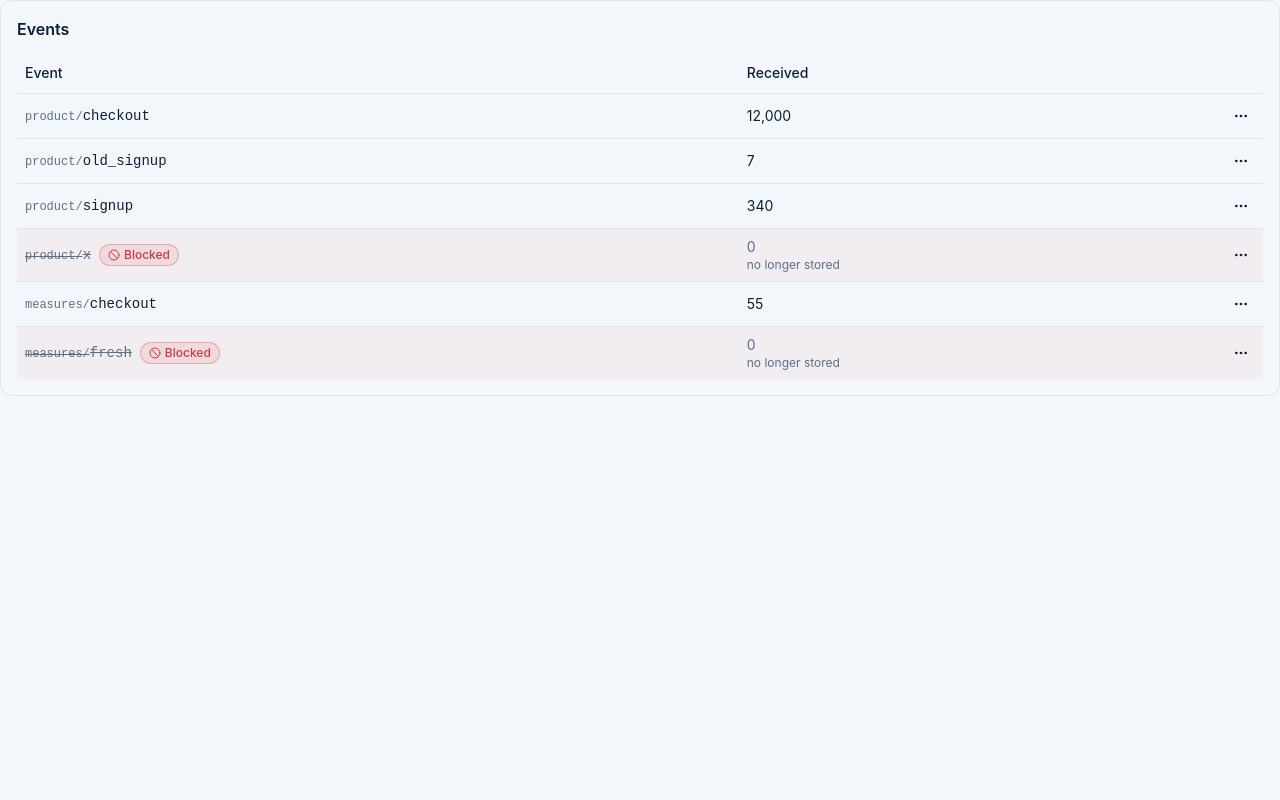
Test case: EventsSection › refuses a name the family blocks
The image size is (1280, 800).
Click the button named "Actions for signup (product)": (1241, 206) [1227,192,1255,220]
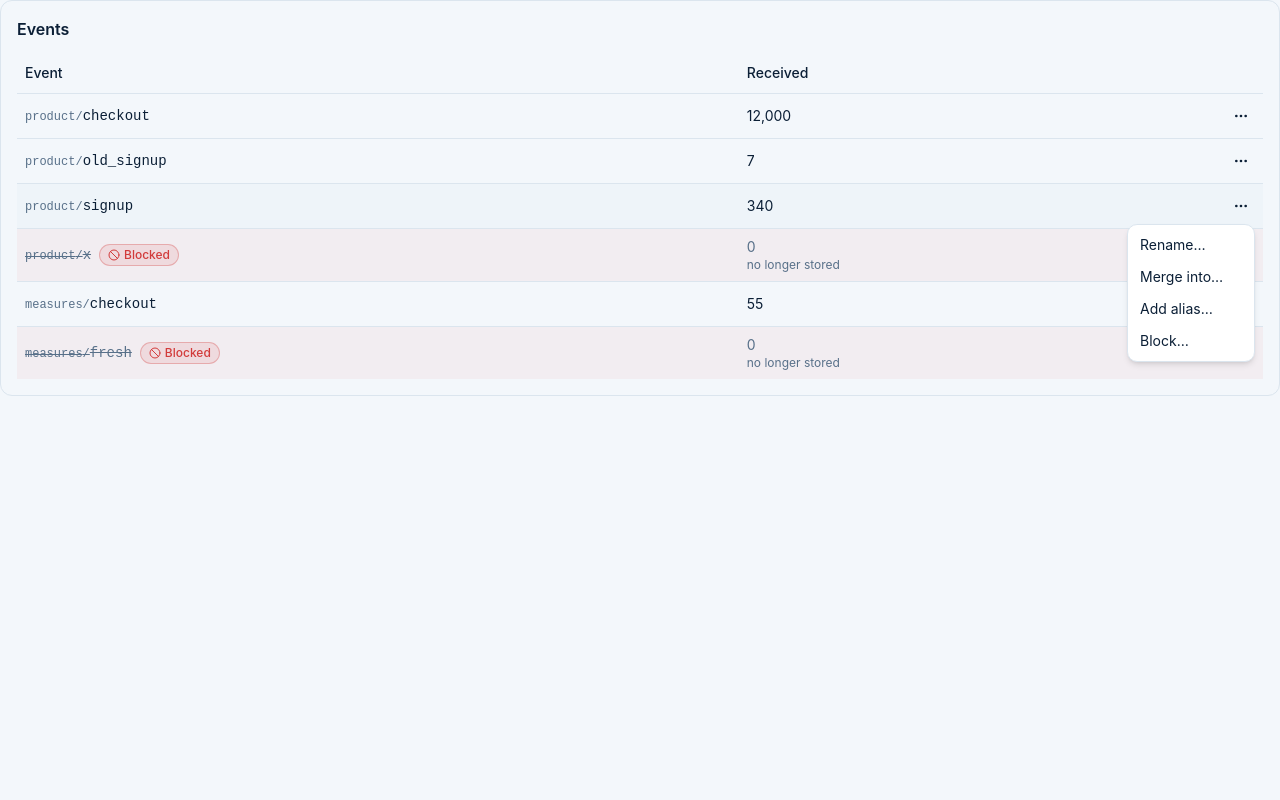
Click the menu item "Rename…": (1173, 244) [1140,236,1206,253]
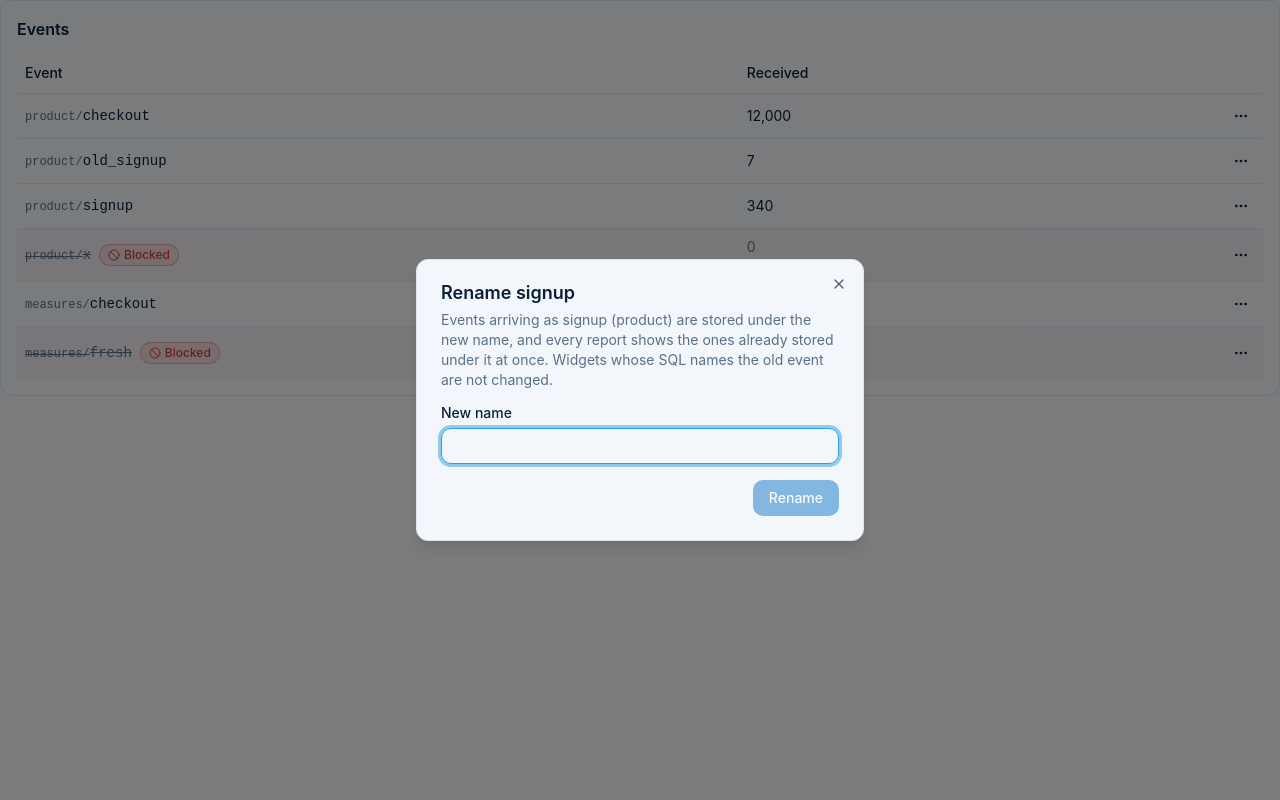
In the field: (640, 446) [441,428,839,464], type "fresh"
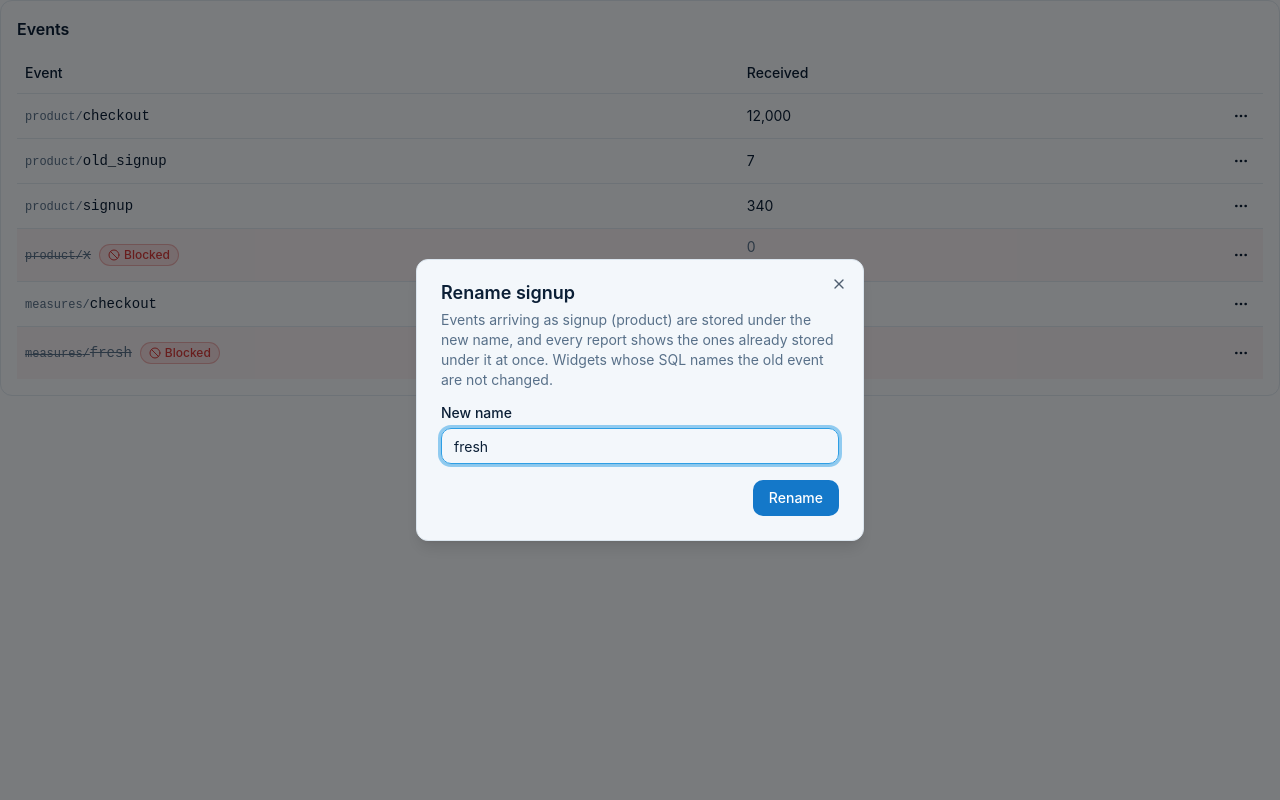
Now the button "Rename" is enabled, box [753,480,839,516]
Replace the text in the field with " x ": (640, 446) [441,428,839,464]
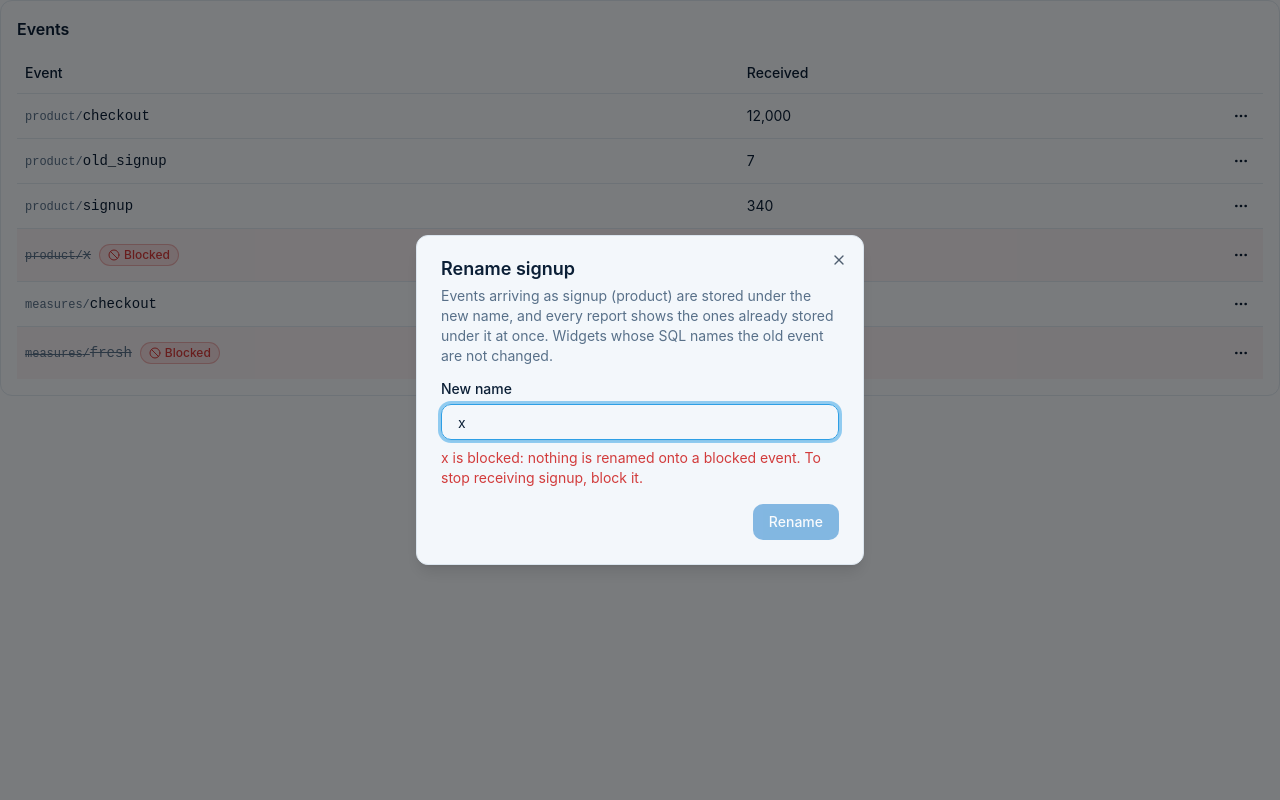
Now the button "Rename" is disabled, box [753,504,839,540]
Now the message shows "x is blocked: nothing is renamed onto a blocked event. To stop receiving signup, block it.", box [441,449,821,486]
